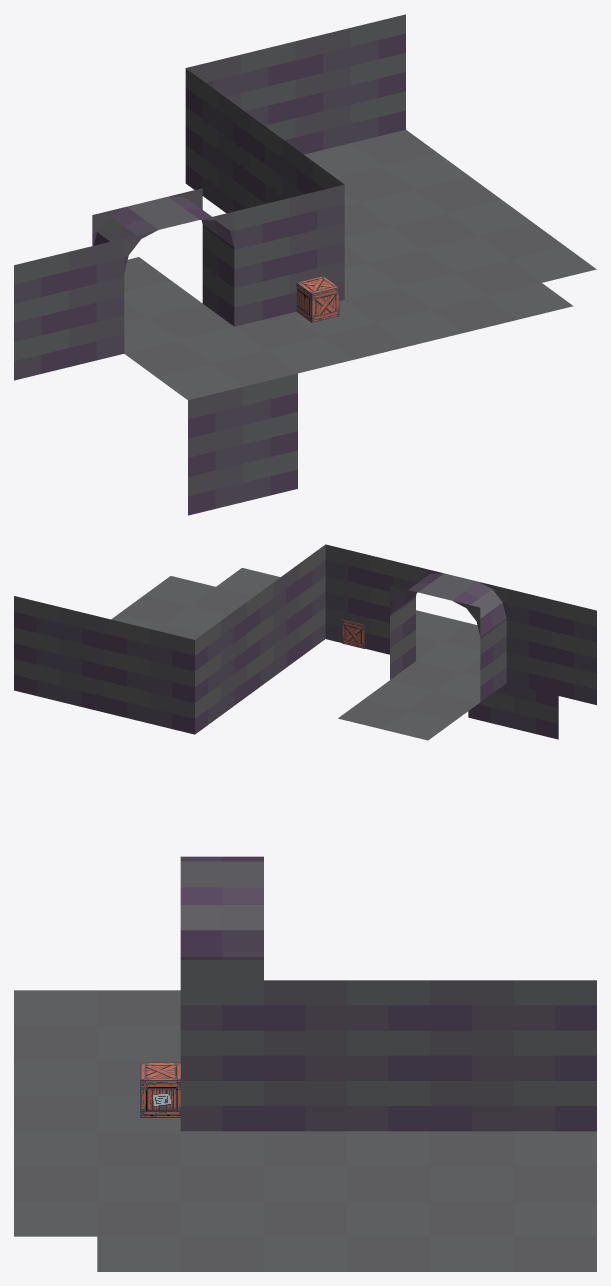
The model's file is level-blocks.glb.
3 views of the same model, one above another, from view 1: azimuth 30°, elevation 25°; view 2: azimuth 150°, elevation 25°; view 3: azimuth 270°, elevation 25° (orthographic). The views are drawn at different scales.
Visible parts, largest first — view 1: wall-large-blocks-1000.006, wall-large-blocks-1000.011, wall-large-blocks-1000.016, wall-large-blocks-1000.012, wall-large-blocks-1000.014, wall-large-blocks-1000.015, wall-large-blocks-1000.010, wall-large-blocks-1000.005, wall-large-blocks-1000.007, wall-large-blocks-1000.009, wall-large-blocks-1000.003, wall-large-blocks-1000.002 (+38 smaller); view 2: wall-large-blocks-1000.008, wall-large-blocks-1000.009, wall-large-blocks-1000.010, wall-large-blocks-1000.012, wall-large-blocks-1000.016, wall-large-blocks-1000.011, wall-large-blocks-1000.013, wall-large-blocks-1000.005, wall-large-blocks-1000.007, wall-large-blocks-1000.004, wall-large-blocks-1000.001, wall-large-blocks-1000 (+23 smaller); view 3: wall-large-blocks-1000.002, wall-large-blocks-1000.001, wall-large-blocks-1000.003, wall-large-blocks-1000.004, wall-large-blocks-1000, wall-large-blocks-1000.007, ground-large-blocks-b, ground-large-blocks-a.001, ground-large-blocks-b.001, ground-large-blocks-b.003, ground-large-blocks-b.004, ground-large-blocks-a.005 (+31 smaller).
Part boxes in pixels (x1,y1,x2,y2): wall-large-blocks-1000.006: [234, 198, 289, 326]; wall-large-blocks-1000.011: [69, 238, 124, 366]; wall-large-blocks-1000.016: [295, 28, 350, 154]; wall-large-blocks-1000.012: [14, 252, 68, 380]; wall-large-blocks-1000.014: [188, 387, 242, 515]; wall-large-blocks-1000.015: [243, 373, 297, 501]; wall-large-blocks-1000.010: [351, 14, 405, 142]; wall-large-blocks-1000.005: [289, 184, 344, 313]; wall-large-blocks-1000.007: [148, 188, 234, 326]; wall-large-blocks-1000.009: [240, 41, 295, 148]; wall-large-blocks-1000.003: [185, 68, 217, 206]; wall-large-blocks-1000.002: [217, 91, 249, 213]; wall-large-blocks-1000.008: [149, 629, 194, 734]; wall-large-blocks-1000.009: [104, 618, 149, 723]; wall-large-blocks-1000.010: [14, 596, 59, 701]; wall-large-blocks-1000.012: [551, 599, 596, 705]; wall-large-blocks-1000.016: [59, 607, 104, 712]; wall-large-blocks-1000.011: [506, 588, 551, 693]; wall-large-blocks-1000.013: [435, 577, 506, 701]; wall-large-blocks-1000.005: [325, 544, 370, 649]; wall-large-blocks-1000.007: [390, 566, 460, 679]; wall-large-blocks-1000.004: [299, 544, 325, 657]; wall-large-blocks-1000.001: [247, 583, 273, 695]; wall-large-blocks-1000: [273, 564, 299, 676]; wall-large-blocks-1000.002: [430, 980, 513, 1131]; wall-large-blocks-1000.001: [347, 980, 430, 1131]; wall-large-blocks-1000.003: [513, 980, 596, 1131]; wall-large-blocks-1000.004: [180, 980, 263, 1131]; wall-large-blocks-1000: [264, 980, 346, 1131]; wall-large-blocks-1000.007: [180, 874, 263, 980]; ground-large-blocks-b: [97, 1131, 180, 1166]; ground-large-blocks-a.001: [97, 1166, 180, 1201]; ground-large-blocks-b.001: [513, 1166, 596, 1201]; ground-large-blocks-b.003: [180, 1166, 263, 1201]; ground-large-blocks-b.004: [430, 1131, 513, 1166]; ground-large-blocks-a.005: [430, 1166, 513, 1201].
Bounding box in the file's own units: 20 × 8 × 14.
2 materials, 2 textured.
